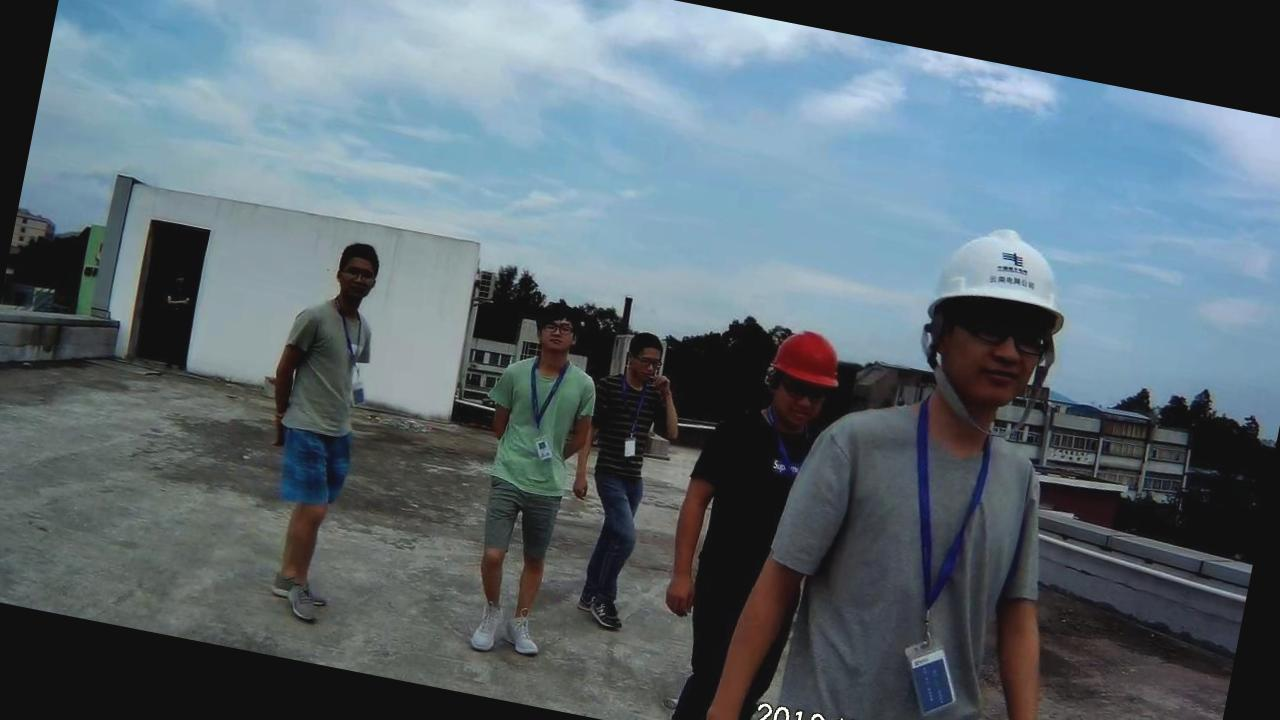helmet: (920, 218, 1084, 324), (764, 322, 846, 390)
no_vest: (781, 381, 1058, 720), (692, 393, 828, 596), (489, 343, 596, 490), (286, 290, 384, 432), (593, 369, 672, 482)
person: (784, 194, 1109, 720), (641, 317, 850, 720), (241, 231, 404, 622), (449, 292, 609, 664), (564, 315, 705, 647)
